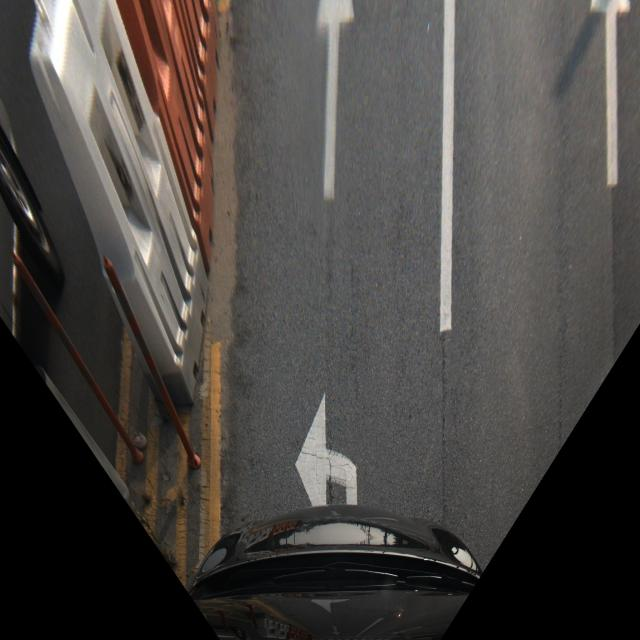left: (245, 372, 430, 507)
